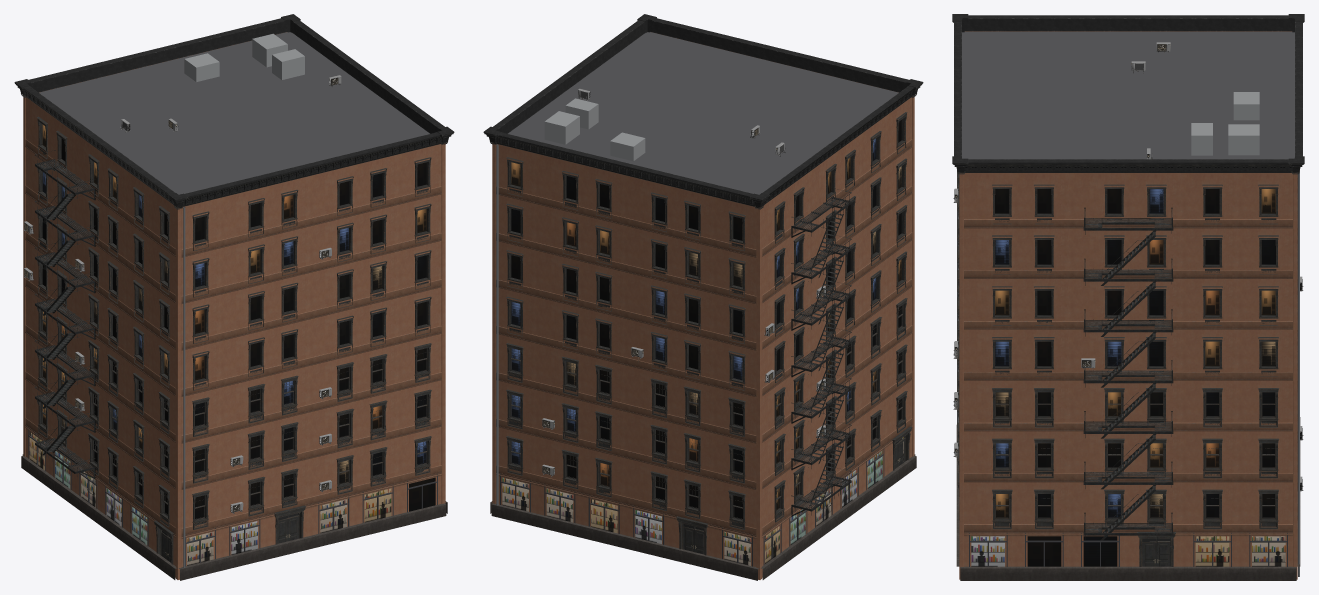
File: apt_b.gltf
3 views of the same model, side by side, from view 1: azimuth 30°, elevation 25°; view 2: azimuth 150°, elevation 25°; view 3: azimuth 270°, elevation 25° (orthographic). The views are drawn at different scales.
Parts seen in each view (by area): view 1: apt_b; view 2: apt_b; view 3: apt_b.
Boxes of the visible parts, <box> form: apt_b: <box>14,14,454,580</box>; apt_b: <box>483,14,923,580</box>; apt_b: <box>952,14,1304,580</box>.
Size of the model in its own units: 20.83 by 25.13 by 18.85.
Materials: 15 (10 with a texture image).
